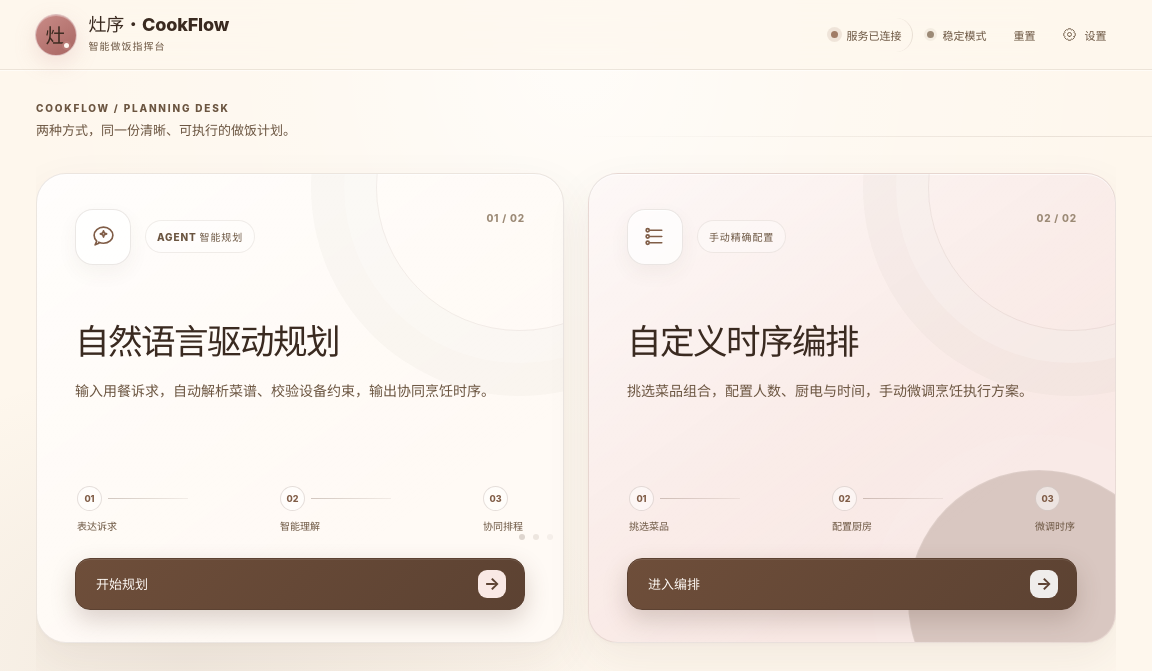
Test: keeps the landing page free of manual progress and moves it into manual configuration
The image size is (1152, 671).
Expected: the text "服务已连接" is shown, [820,18,914,52]
Expected: the text "/ 5 道已选" is not shown
Click the button "手动精确配置".
click(620, 408)  # box [588,173,1116,643]
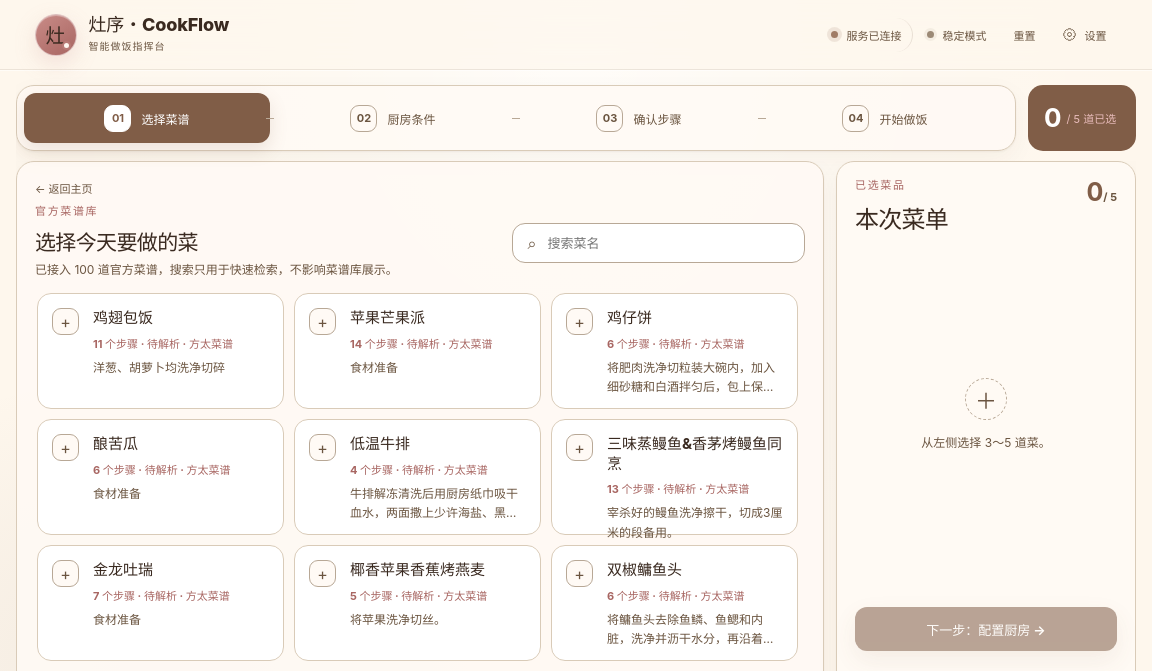
Result: the element named "已选择 0 道菜，最多 5 道" is shown at [1028,85,1136,151]
Result: the heading "选择今天要做的菜" is shown at [35,230,198,255]
Result: the button "+ 鸡翅包饭 11 个步骤 · 待解析 · 方太菜谱 洋葱、胡萝卜均洗净切碎" is shown
Click the button "+ 鸡翅包饭 11 个步骤 · 待解析 · 方太菜谱 洋葱、胡萝卜均洗净切碎".
click(160, 351)  # box [37,293,284,409]
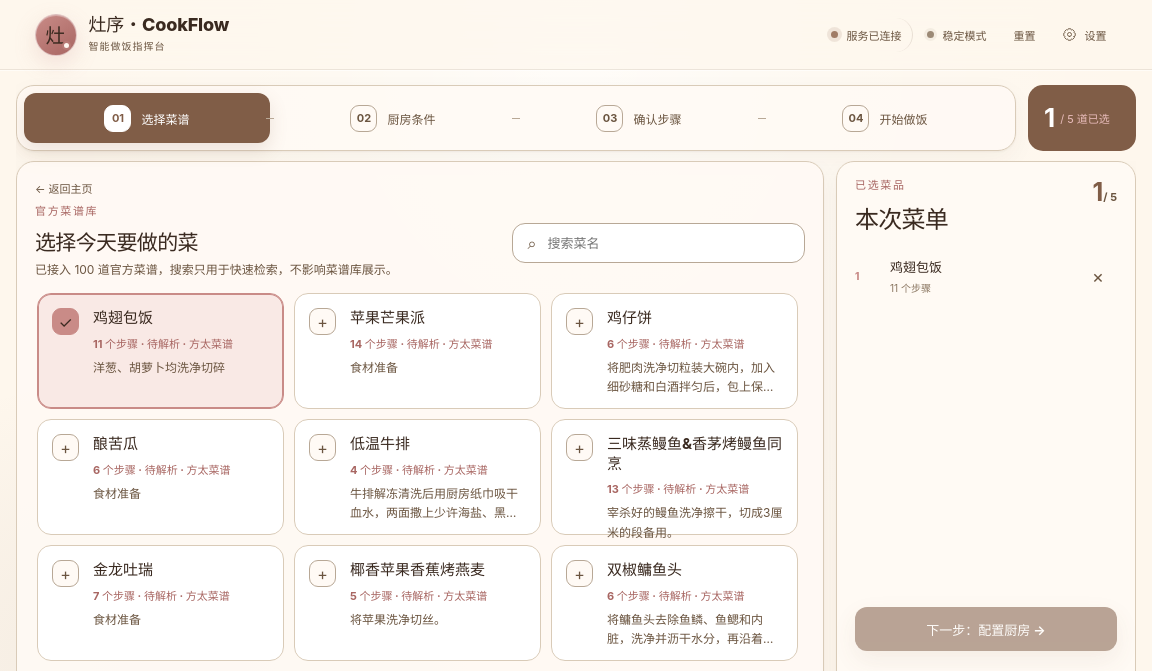
Result: the element named "已选择 1 道菜，最多 5 道" is shown at [1028,85,1136,151]
